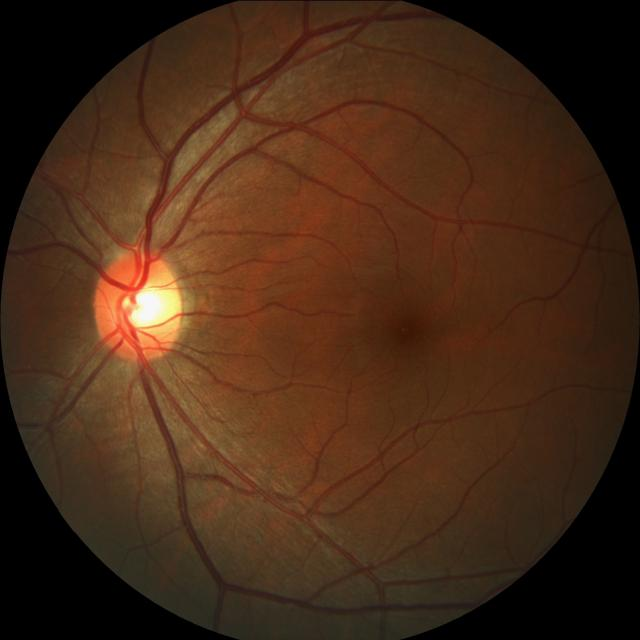OC: (122, 282, 168, 326)
OD: (94, 248, 184, 359)
